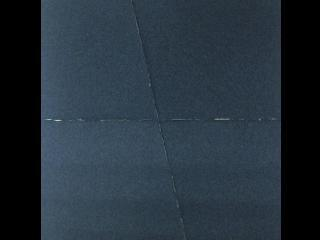crack: (126, 0, 193, 240), (41, 110, 282, 132)
